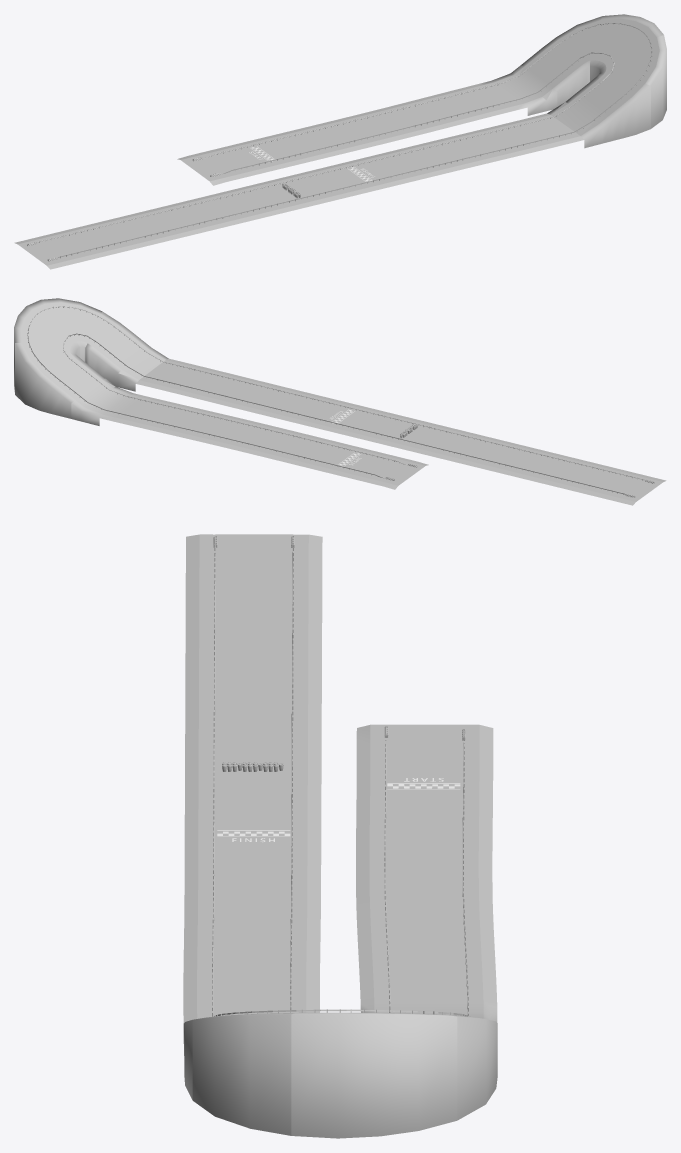
The model's file is Road10D30.fbx.
3 views of the same model, one above another, from view 1: azimuth 30°, elevation 25°; view 2: azimuth 150°, elevation 25°; view 3: azimuth 270°, elevation 25° (orthographic). The views are drawn at different scales.
Parts seen in each view (by area): view 1: Markers0.018, Markers7.018, Markers1.018, Markers2.018, SCutR3.018, Markers8.018, SCutR0.018, Markers3.018, SCutL7.018, Markers6.018, WBeam2R.018, WBeam2L.018 (+18 smaller); view 2: Markers0.018, Markers7.018, Markers1.018, Markers2.018, SCutR6.018, Markers8.018, SCutL0.018, Markers3.018, SCutR7.018, WBeam2R.018, Markers6.018, WBeam2L.018 (+18 smaller); view 3: SCutR5.018, Markers0.018, SCutR4.018, Markers1.018, Markers2.018, Markers7.018, Markers8.018, SCutL0.018, SCutR0.018, Markers9.018, SCutL1.018, SCutR1.018 (+11 smaller).
Boxes of the visible parts, x1,y1,x2,y2 form: Markers0.018: [22, 191, 272, 262]; Markers7.018: [379, 70, 548, 130]; Markers1.018: [252, 153, 429, 206]; Markers2.018: [410, 118, 575, 168]; SCutR3.018: [576, 82, 650, 148]; Markers8.018: [258, 116, 398, 160]; SCutR0.018: [43, 207, 279, 269]; Markers3.018: [555, 75, 638, 132]; SCutL7.018: [400, 85, 557, 137]; Markers6.018: [528, 26, 598, 84]; WBeam2R.018: [58, 23, 652, 258]; WBeam2L.018: [37, 52, 614, 242]; Markers0.018: [425, 432, 658, 498]; Markers7.018: [80, 383, 240, 438]; Markers1.018: [278, 396, 444, 446]; Markers2.018: [143, 363, 297, 410]; SCutR6.018: [15, 343, 78, 418]; Markers8.018: [222, 424, 353, 465]; SCutL0.018: [418, 446, 639, 505]; Markers3.018: [90, 318, 161, 376]; SCutR7.018: [71, 397, 220, 444]; WBeam2R.018: [27, 306, 644, 480]; Markers6.018: [29, 344, 98, 396]; WBeam2L.018: [63, 333, 625, 494]; SCutR5.018: [291, 1012, 457, 1138]; Markers0.018: [214, 534, 293, 744]; SCutR4.018: [192, 1013, 294, 1135]; Markers1.018: [213, 744, 292, 887]; Markers2.018: [212, 887, 291, 1016]; Markers7.018: [385, 901, 468, 1016]; Markers8.018: [385, 791, 463, 901]; SCutL0.018: [292, 534, 322, 746]; SCutR0.018: [185, 534, 215, 746]; Markers9.018: [385, 724, 463, 791]; SCutL1.018: [291, 744, 321, 889]; SCutR1.018: [184, 744, 214, 889].
Bounding box in the file's own units: 26759 × 2686 × 6043.
